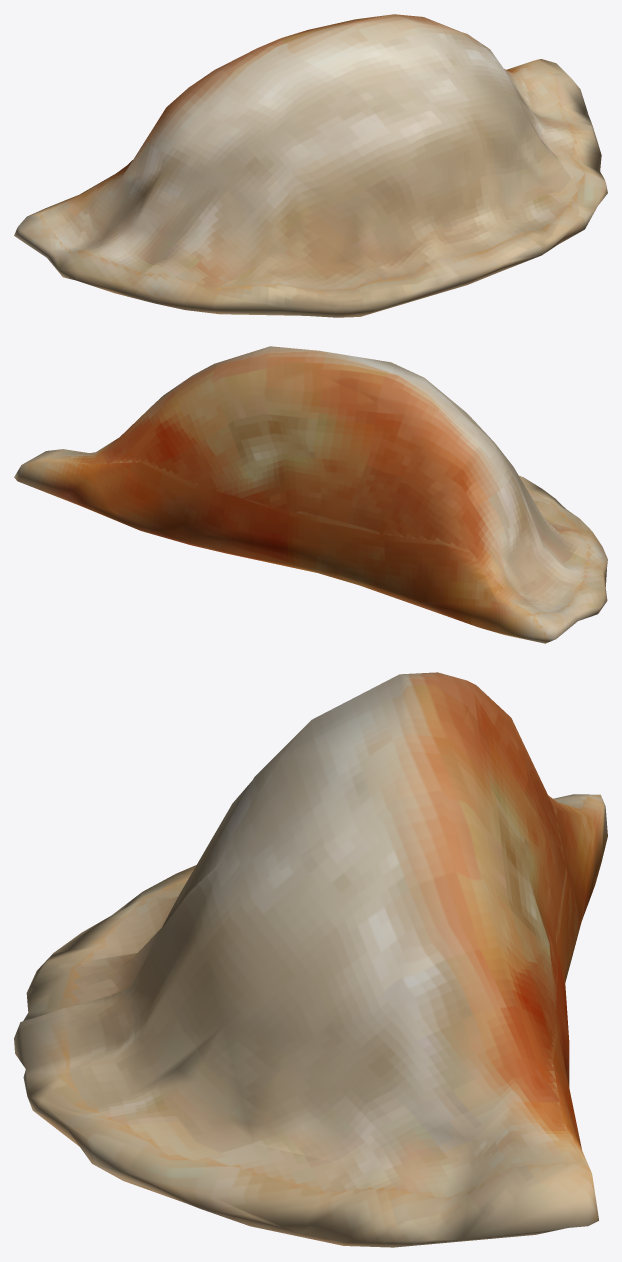
Rendered from ref_frieddumpling.fbx.
3 renders of one model, top to bottom at view 1: azimuth 30°, elevation 25°; view 2: azimuth 150°, elevation 25°; view 3: azimuth 270°, elevation 25°, orthographic. The views are drawn at different scales.
Parts seen in each view (by area): view 1: ref_frieddumpling; view 2: ref_frieddumpling; view 3: ref_frieddumpling.
Boxes of the visible parts, x1,y1,x2,y2 form: ref_frieddumpling: [14, 14, 607, 317]; ref_frieddumpling: [14, 346, 607, 643]; ref_frieddumpling: [14, 672, 607, 1247].
Bounding box in the file's own units: 100 × 35.6 × 53.24.
1 material, 1 textured.
